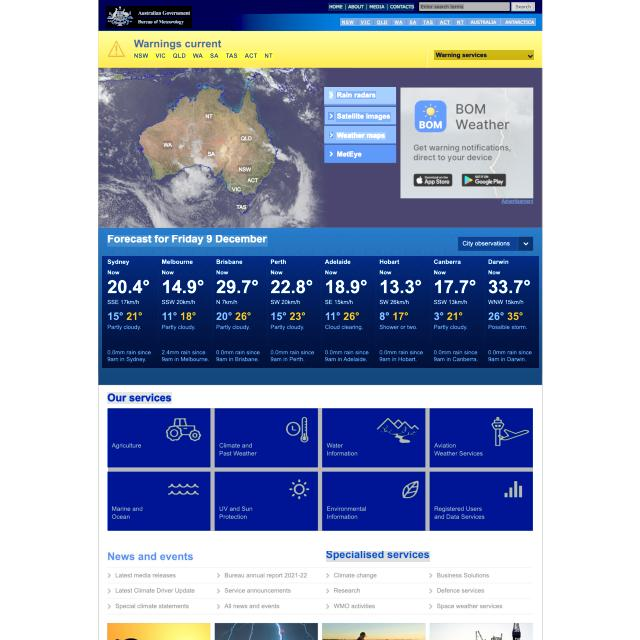CheckBox: (324, 88, 396, 106), (324, 126, 396, 143), (325, 107, 396, 124), (512, 2, 536, 11)
CheckedTextView: (418, 1, 511, 12)
ImageView: (401, 87, 533, 198)
ProgressBar: (98, 31, 543, 68)
QR code: (102, 256, 539, 368)
alert: (458, 237, 533, 251), (434, 50, 534, 60)
bag: (98, 0, 542, 31)
breadcrumbs: (107, 235, 268, 248), (326, 552, 430, 564), (107, 551, 194, 562), (107, 392, 172, 404)
card: (98, 68, 542, 228)
carousel: (328, 112, 334, 120), (329, 93, 333, 101), (329, 132, 333, 138)
data feed: (336, 112, 391, 122), (336, 132, 386, 140), (336, 93, 376, 101), (516, 4, 532, 9)
date picker: (106, 5, 192, 28)
decoration: (108, 408, 533, 531), (104, 567, 532, 614), (340, 18, 536, 26), (133, 51, 274, 60), (328, 3, 414, 11)
footer: (420, 4, 464, 9)
